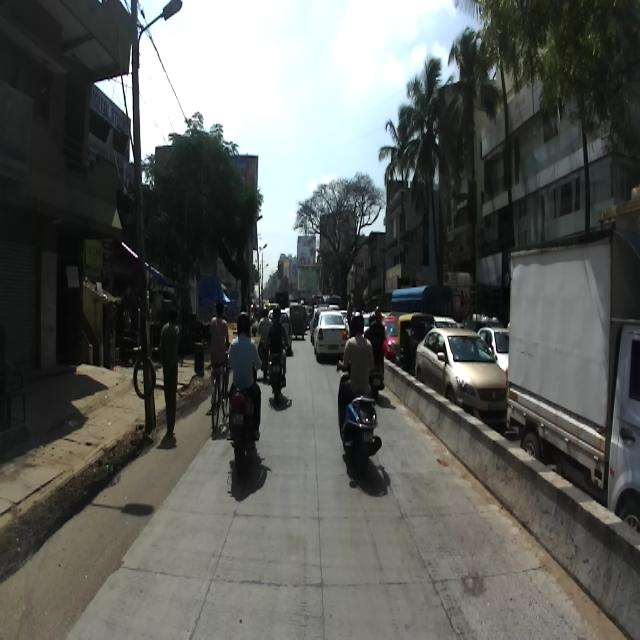motorcycle ahead at: (337, 388, 386, 471)
person ahead at: (157, 303, 190, 443)
